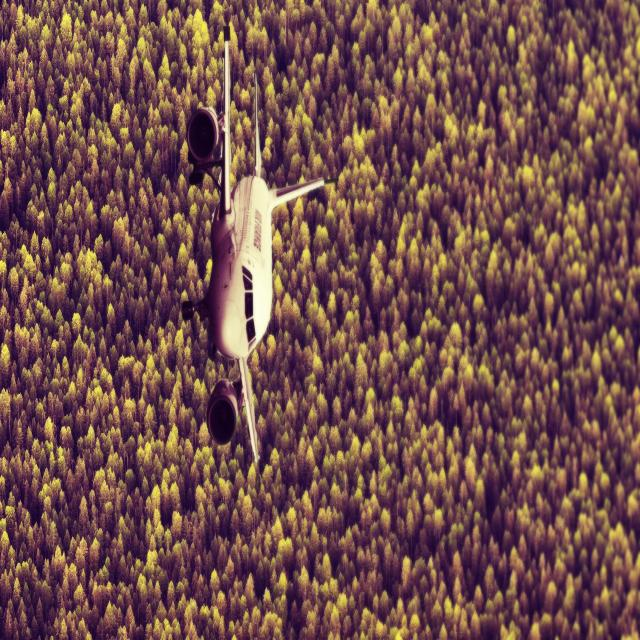airplane: (180, 24, 338, 463)
